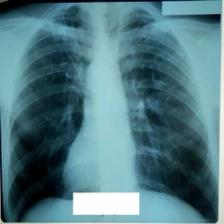tuberculosis: (2, 4, 220, 224)
